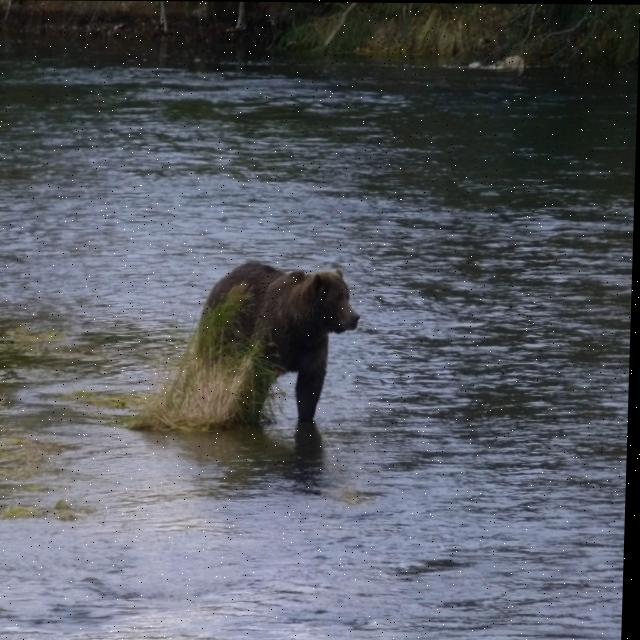bear face: (201, 266, 363, 421)
